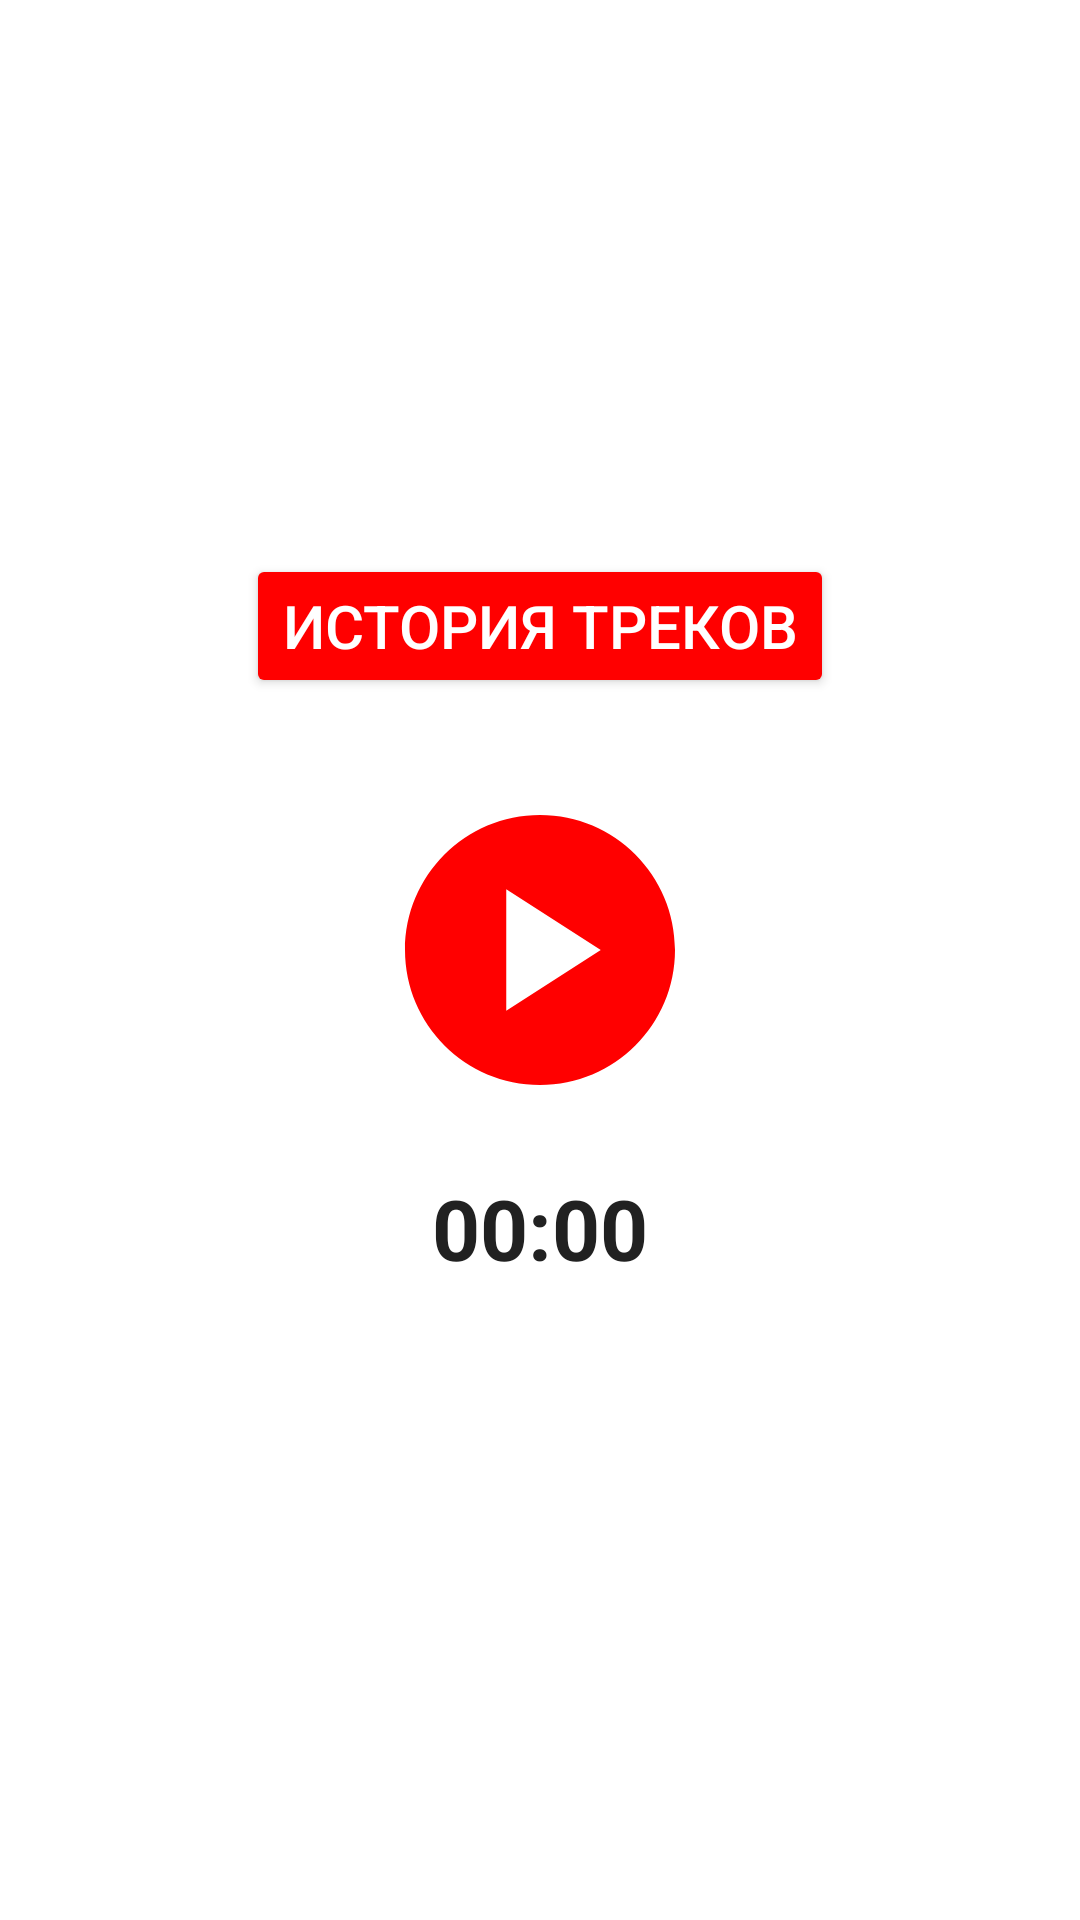

Where icons sit on this 1080w x 1920h app screen, as BBox(x1, y1, x2, y2):
play circle: BBox(405, 815, 675, 1085)
